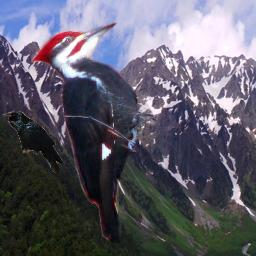Crow: (2, 111, 63, 173)
Woodpecker: (31, 22, 155, 244)
